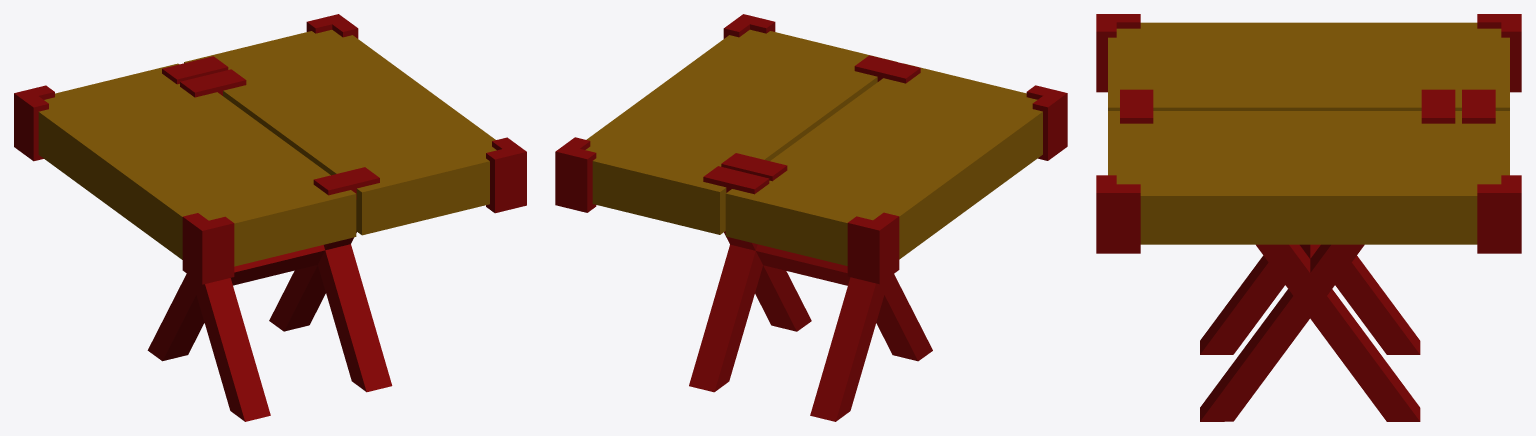
File: mesas.fbx
3 renders of one model, left to right at view 1: azimuth 30°, elevation 25°; view 2: azimuth 150°, elevation 25°; view 3: azimuth 270°, elevation 25°, orthographic. The views are drawn at different scales.
Visible parts, largest first — view 1: pCube1, pCube2, pCube11, pCube6, pCube5, pCube4, pCube3; view 2: pCube1, pCube2, pCube11, pCube6, pCube5, pCube3, pCube4; view 3: pCube2, pCube1, pCube11, pCube6, pCube4, pCube3, pCube5.
Boxes of the visible parts, box(x1,y1,x2,y2) form: pCube1: box(38, 63, 356, 266); pCube2: box(184, 30, 496, 235); pCube11: box(147, 231, 392, 421); pCube6: box(14, 14, 526, 284); pCube5: box(313, 167, 379, 199); pCube4: box(180, 69, 246, 97); pCube3: box(162, 56, 228, 84); pCube1: box(725, 63, 1042, 265); pCube2: box(585, 29, 897, 234); pCube11: box(689, 231, 932, 421); pCube6: box(555, 14, 1067, 284); pCube5: box(854, 55, 920, 83); pCube3: box(703, 166, 769, 194); pCube4: box(721, 153, 787, 181); pCube2: box(1108, 111, 1509, 244); pCube1: box(1108, 22, 1509, 110); pCube11: box(1200, 244, 1420, 421); pCube6: box(1096, 14, 1521, 253); pCube4: box(1421, 89, 1455, 123); pCube3: box(1462, 89, 1495, 123); pCube5: box(1120, 89, 1153, 123).
Size of the model in its own units: 6.32 by 4.58 by 6.34.
